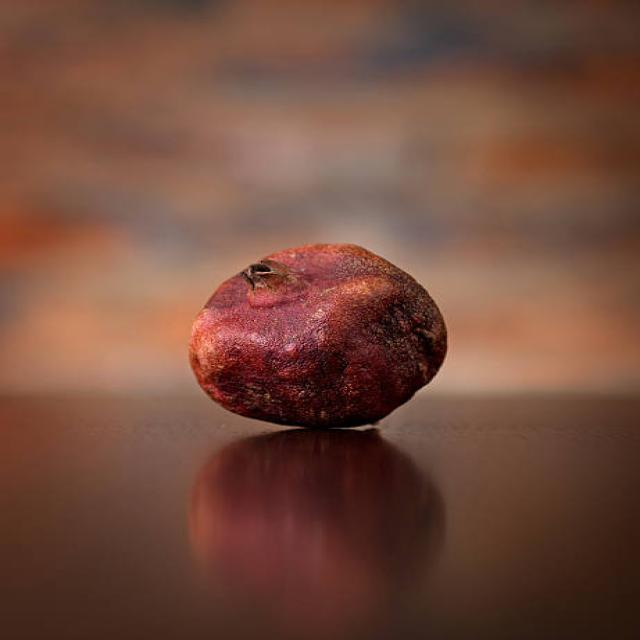overripe: (183, 240, 458, 430)
